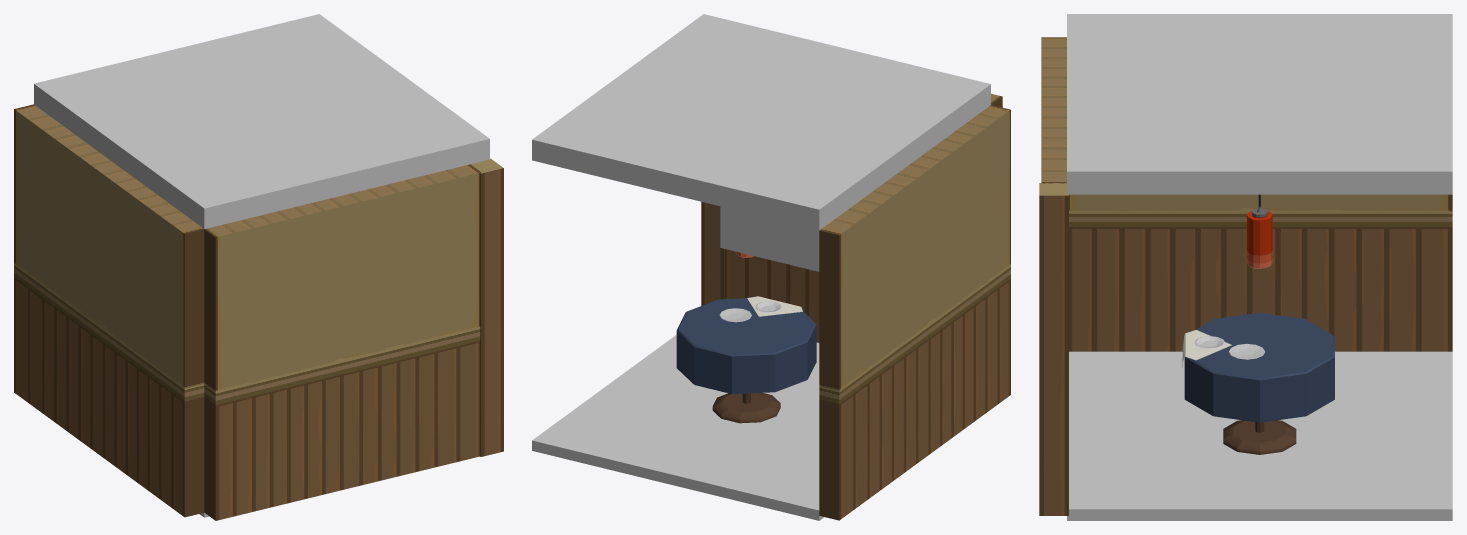
File: canteenScene.fbx
3 renders of one model, left to right at view 1: azimuth 30°, elevation 25°; view 2: azimuth 150°, elevation 25°; view 3: azimuth 270°, elevation 25°, orthographic. The views are drawn at different scales.
Parts seen in each view (by area): view 1: pCube12, pCube22, pCube20, pCube13, pCube23; view 2: pCube22, pCube20, floor, pCube13, pCylinder7, pCube12, pCube23, pCylinder6; view 3: pCube22, floor, pCube20, pCube13, pCylinder7, pCube23, pCube12, pCylinder6, pCylinder10, pPlane1.
Boxes of the visible parts, <box> form: pCube12: <box>204,164,481,520</box>; pCube22: <box>14,104,204,517</box>; pCube20: <box>133,14,489,204</box>; pCube13: <box>34,59,302,228</box>; pCube23: <box>471,158,503,456</box>; pCube22: <box>819,105,1010,520</box>; pCube20: <box>532,14,891,205</box>; floor: <box>532,335,824,520</box>; pCube13: <box>720,60,990,271</box>; pCylinder7: <box>676,298,816,394</box>; pCube12: <box>725,93,1002,342</box>; pCube23: <box>701,202,724,305</box>; pCylinder6: <box>712,393,780,423</box>; pCube22: <box>1069,194,1452,351</box>; floor: <box>1067,351,1452,520</box>; pCube20: <box>1067,68,1452,194</box>; pCube13: <box>1067,14,1452,68</box>; pCylinder7: <box>1184,312,1334,422</box>; pCube23: <box>1039,183,1068,515</box>; pCube12: <box>1041,37,1066,183</box>; pCylinder6: <box>1223,420,1296,454</box>; pCylinder10: <box>1247,194,1272,268</box>; pPlane1: <box>1182,330,1231,367</box>.
Bounding box in the file's own units: 31.15 × 30 × 32.15.
